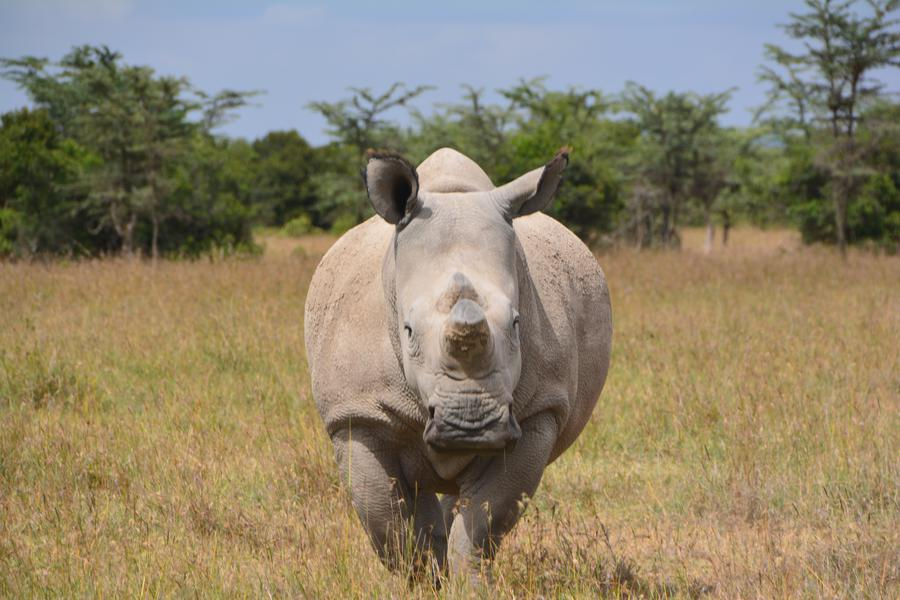rhino: (271, 129, 598, 572)
